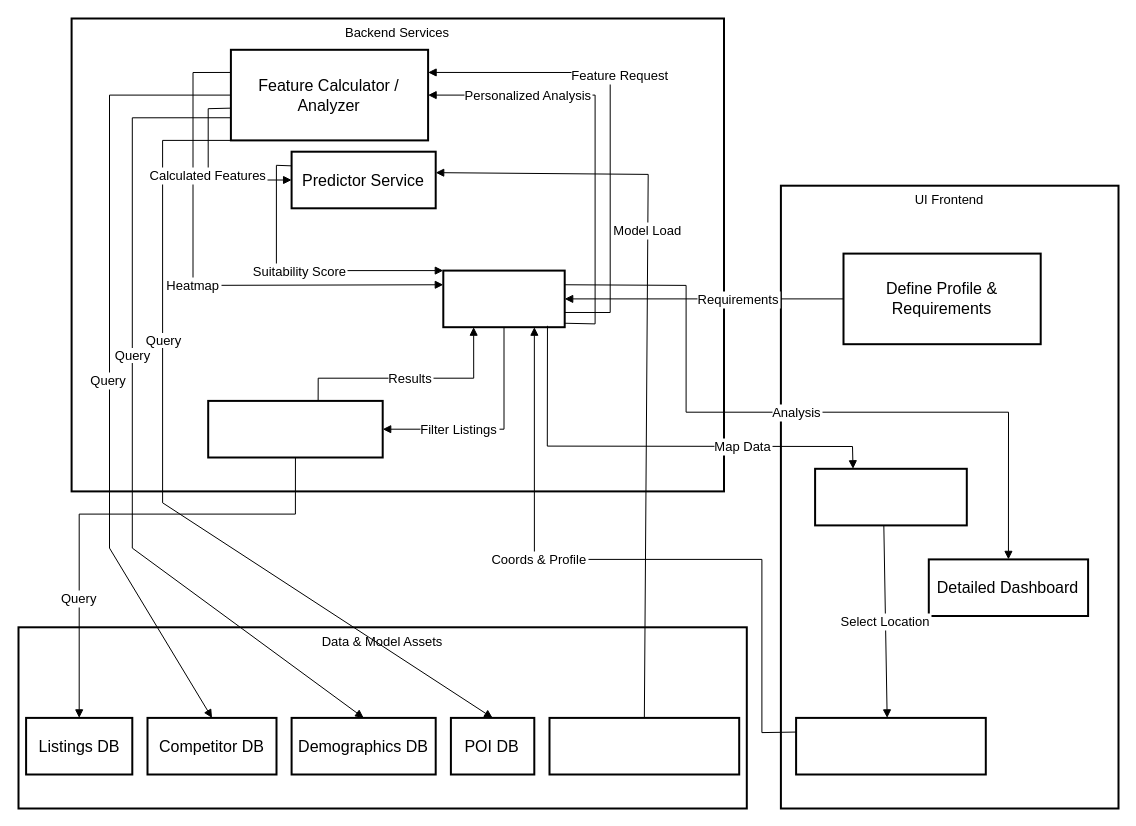
Image size: 1136x826. Some labels were removed from this diagram. The shapes that lost their labels are listed below. From the top down, each one's centre as x and y in pixels, then its label:
(x=503, y=298): Backend API
(x=295, y=428): Property Listing Filter
(x=890, y=496): Personalized Map
(x=644, y=745): Trained Model (XGBoost)
(x=890, y=745): Select Point for Analysis
